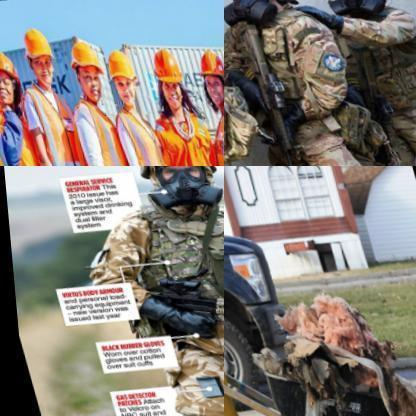vest: (224, 0, 350, 135), (125, 178, 223, 332), (328, 0, 415, 100), (18, 74, 94, 165), (58, 82, 141, 165), (104, 94, 183, 165), (0, 80, 59, 165)
